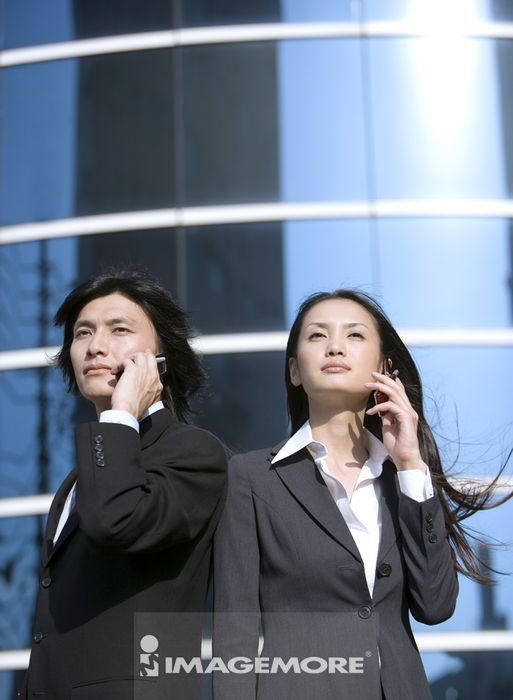talk: (304, 317, 421, 467), (68, 316, 166, 419)
